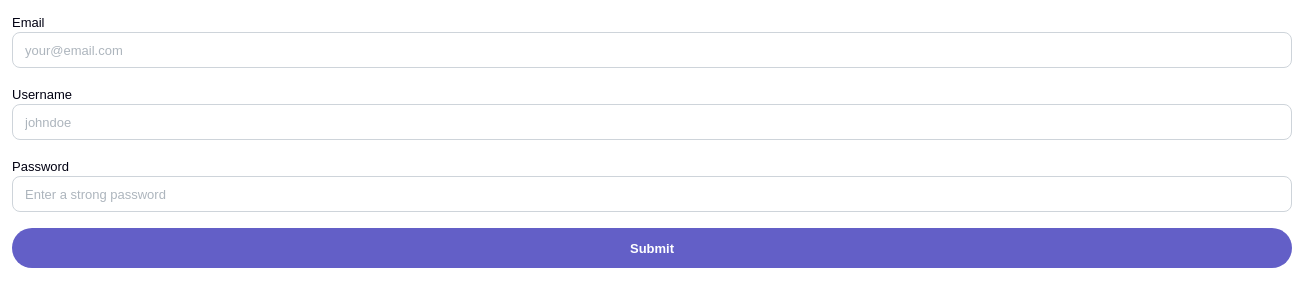
Test case: ExampleForm › should validate username length
Step 1. Type "ab" into the field with test id "input-username" → (652, 122), box left=12, top=104, right=1292, bottom=140
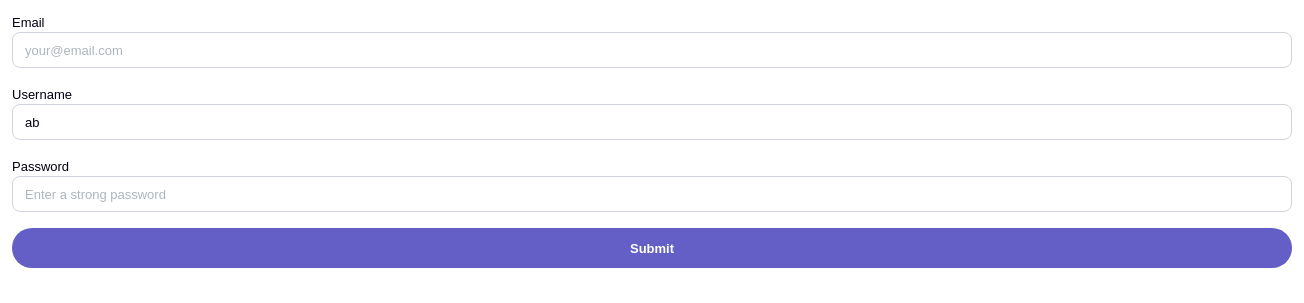
Step 2. Leave the field with test id "input-username", box left=12, top=104, right=1292, bottom=140
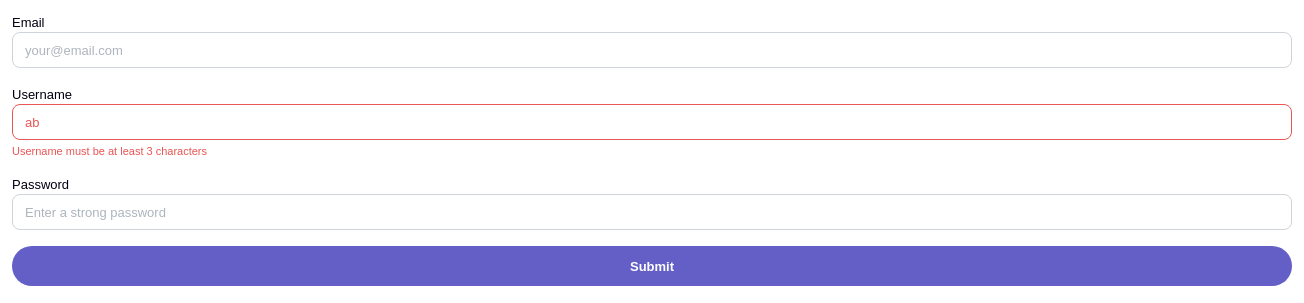
Expected: the text "Username must be at least 3 characters" is shown, left=12, top=145, right=207, bottom=157
